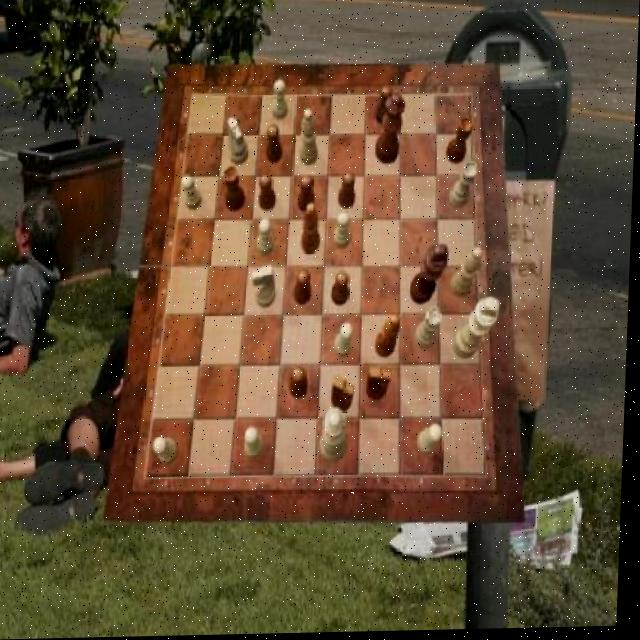bishop: (302, 205, 322, 258), (377, 316, 402, 358)
black-bishop: (411, 246, 450, 307)
black-king: (368, 370, 396, 404), (335, 378, 359, 414)
black-knight: (375, 87, 394, 126), (260, 174, 279, 212), (300, 176, 318, 214), (340, 172, 358, 210), (293, 368, 313, 401), (268, 126, 285, 164), (297, 271, 315, 306), (333, 272, 351, 307)
black-pawn: (376, 94, 408, 167)
black-queen: (447, 120, 476, 166), (225, 166, 249, 212)
black-rook: (453, 248, 484, 300), (299, 110, 320, 167)
white-bishop: (455, 300, 503, 361)
white-king: (227, 119, 251, 167), (254, 266, 280, 309)
white-knight: (420, 426, 446, 457), (183, 175, 205, 210), (334, 212, 353, 250), (157, 437, 182, 465), (248, 429, 269, 462), (258, 220, 276, 258), (272, 81, 289, 121), (337, 324, 356, 359)
white-pawn: (324, 409, 353, 466)
white-queen: (452, 164, 480, 210), (417, 307, 445, 350)
